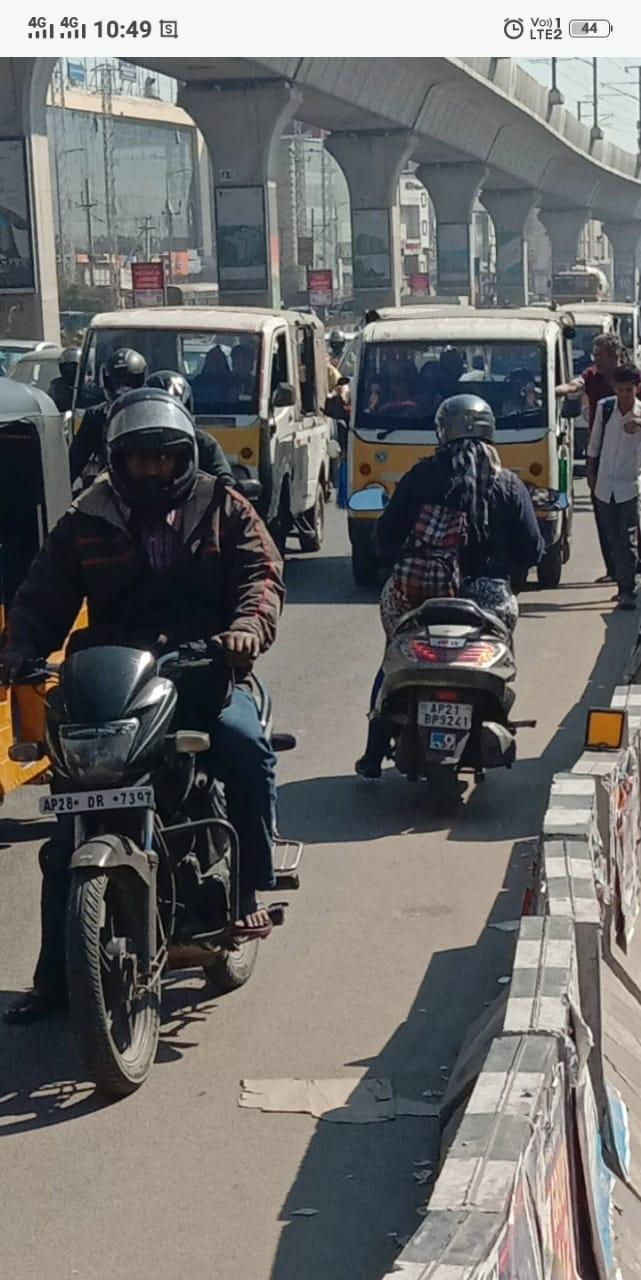plate: (39, 785, 157, 818), (415, 698, 480, 733)
